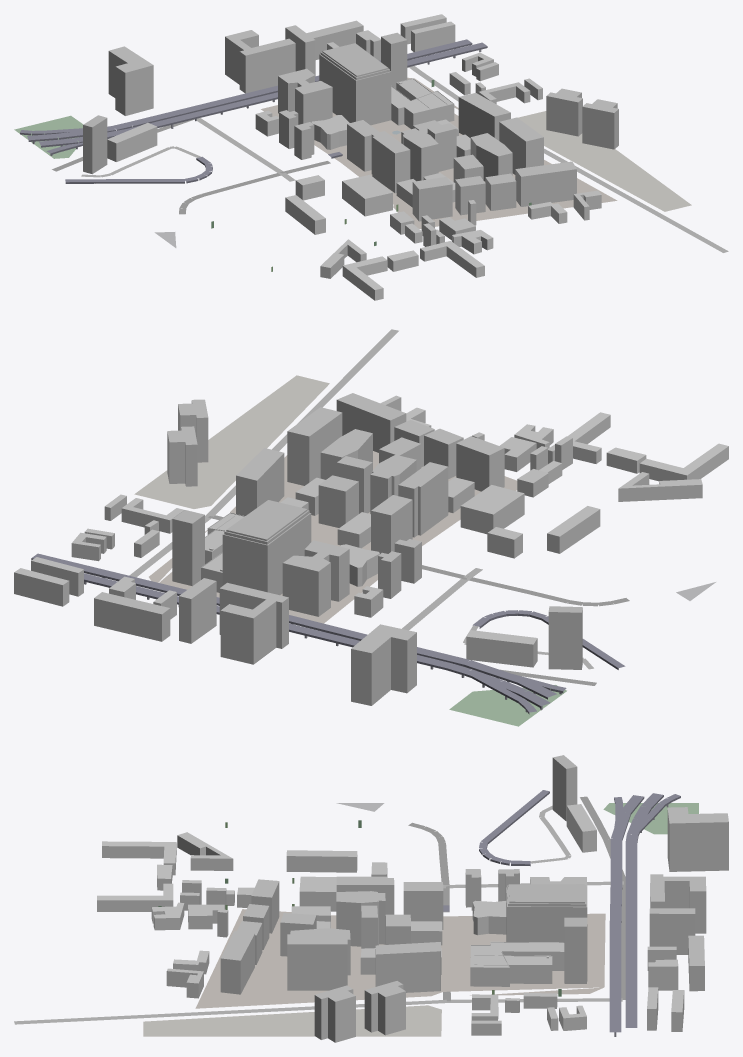
3 views of the same model, one above another, from view 1: azimuth 30°, elevation 25°; view 2: azimuth 150°, elevation 25°; view 3: azimuth 270°, elevation 25° (orthographic). The views are drawn at different scales.
Size of the model in its own units: 534 by 60.38 by 643.
